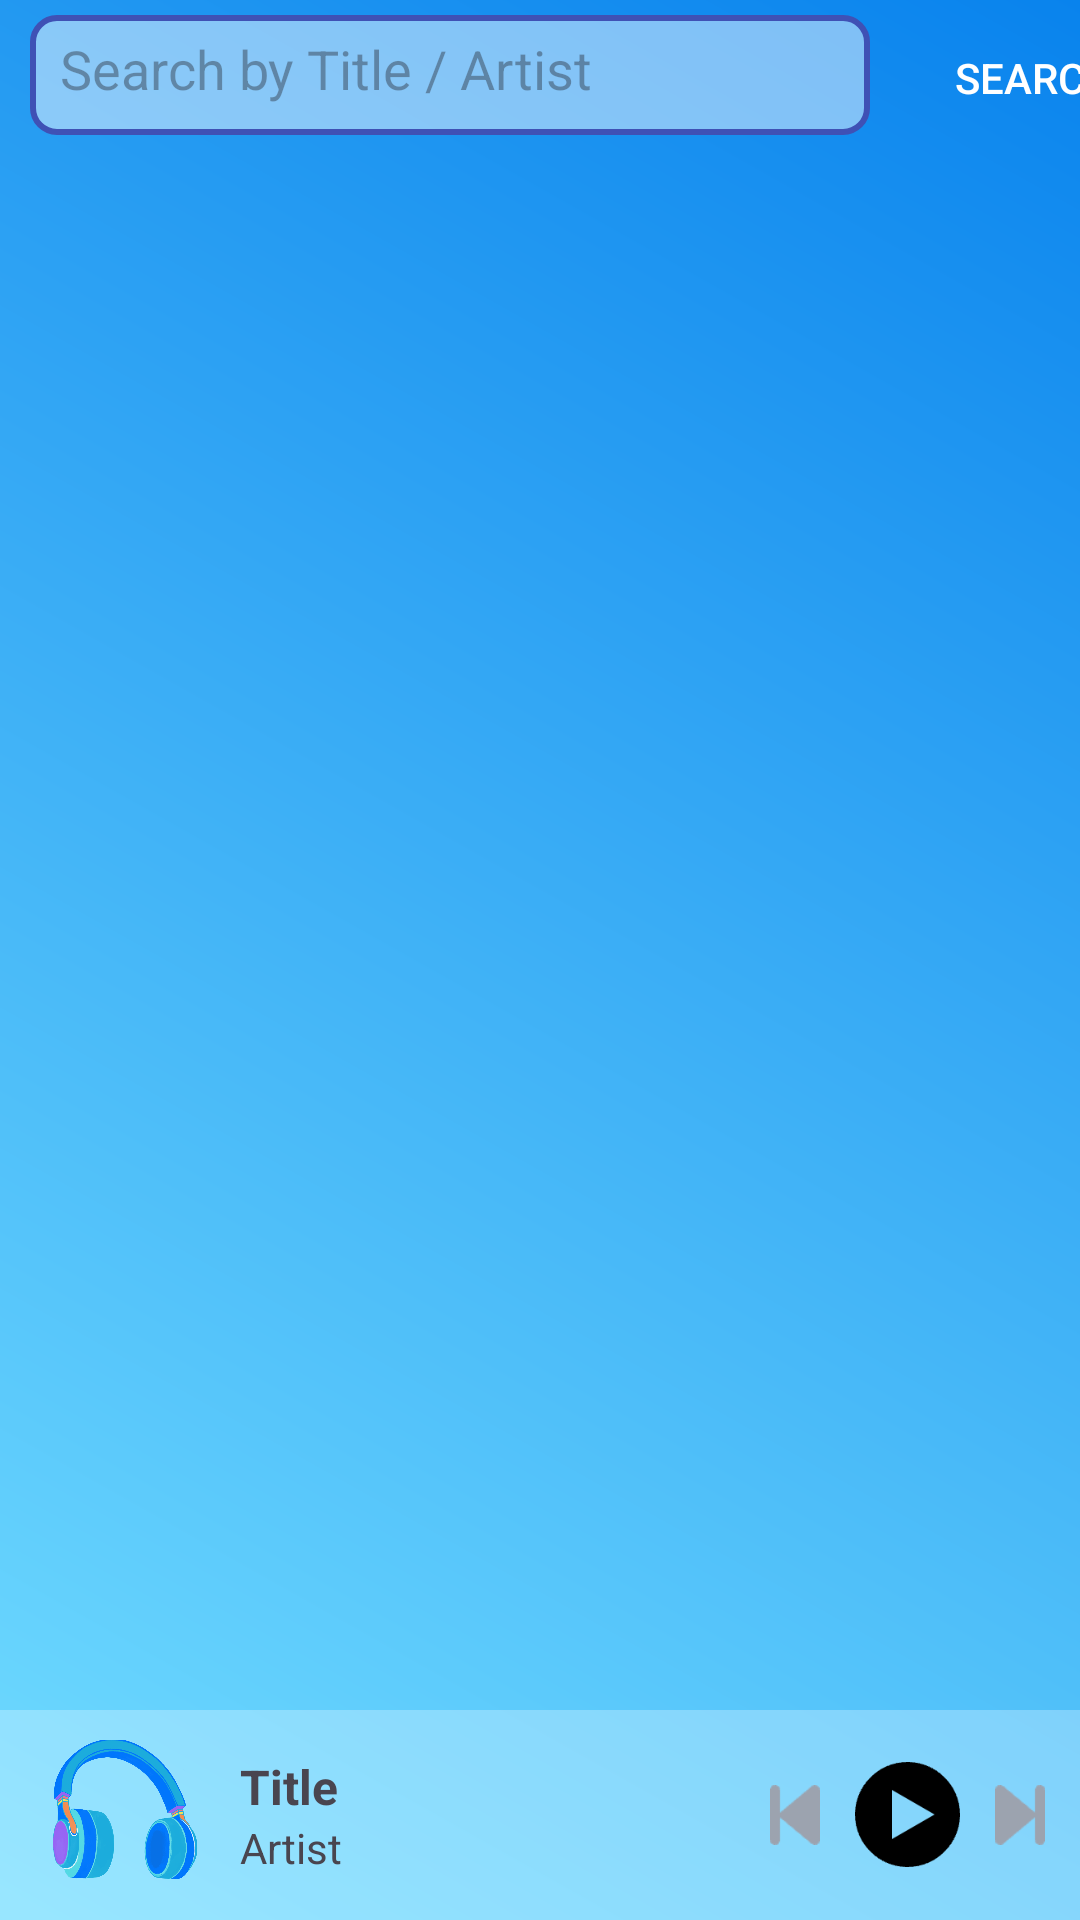

Where icons sit on this 1080 x 1920 app screen, as (x1, y1, x2, y2):
next: (995, 1785, 1045, 1845)
play: (855, 1762, 960, 1867)
previous: (770, 1785, 820, 1845)
